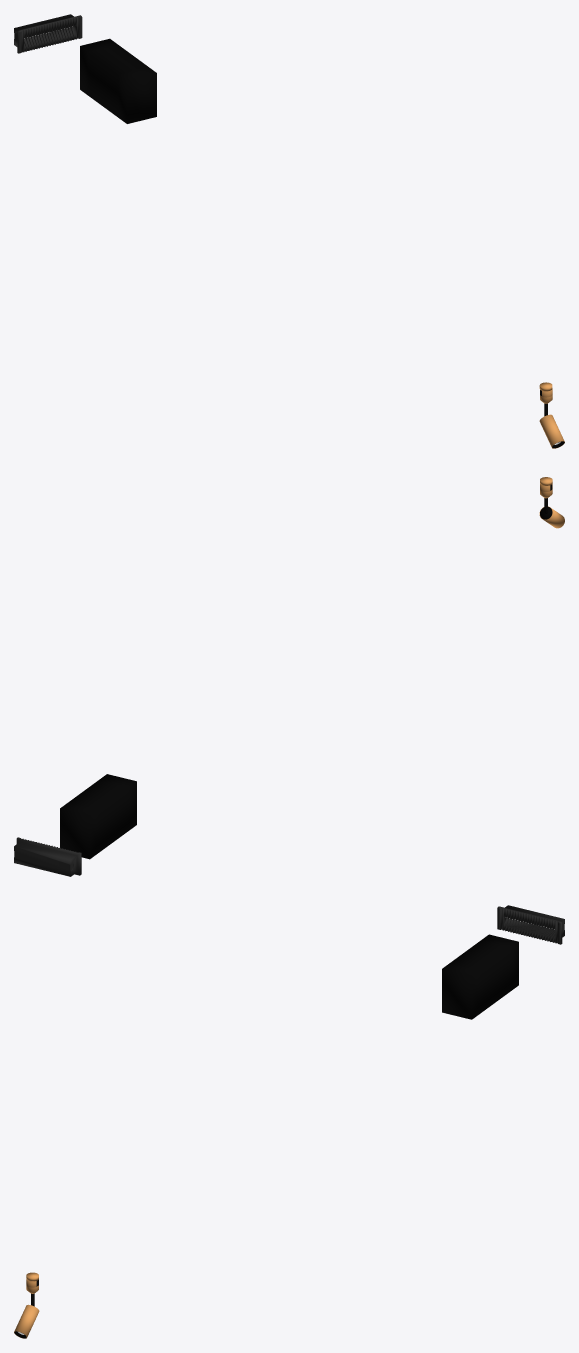
File: Streak.glb
The picture shows the model from 3 angles, top to bottom: view 1: azimuth 30°, elevation 25°; view 2: azimuth 150°, elevation 25°; view 3: azimuth 330°, elevation 25°; orthographic projection.
Parts seen in each view (by area): view 1: Cube.007, Cube.031; view 2: Cube.007, Cube.031; view 3: Cube.007, Cube.031.
Part boxes in pixels (x1,y1,x2,y2): Cube.007: (80, 38, 156, 123); Cube.031: (14, 14, 82, 53); Cube.007: (60, 774, 136, 859); Cube.031: (14, 837, 81, 876); Cube.007: (442, 934, 518, 1019); Cube.031: (497, 905, 564, 944).
Bounding box in the file's own units: 3.36 × 2.95 × 47.56.
